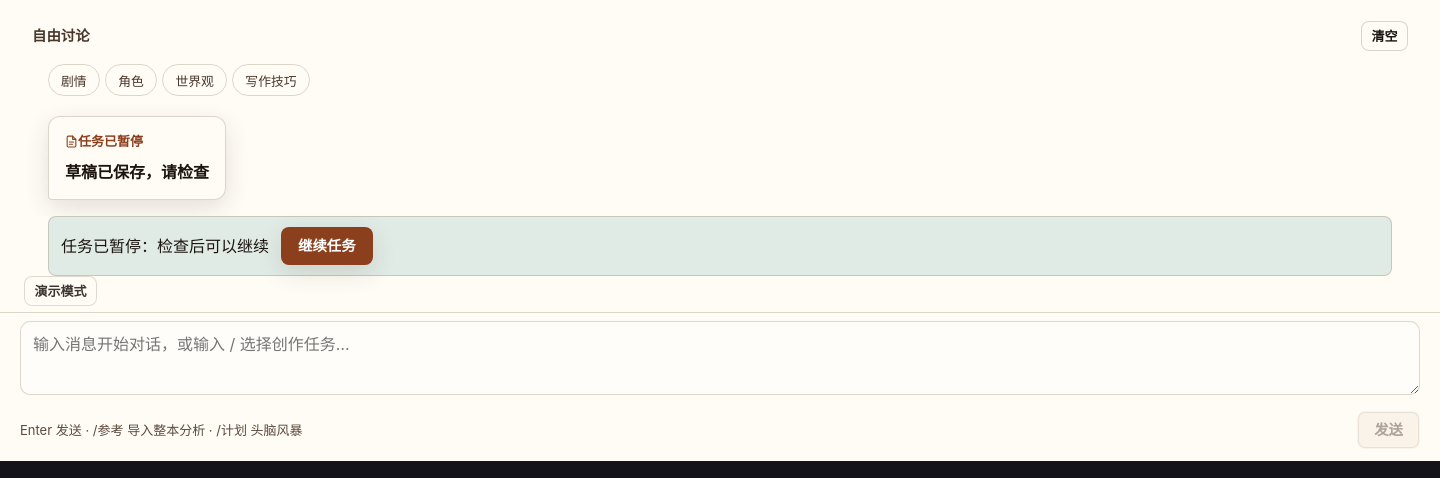
Test case: ChatWorkspace › shows a paused job after refresh and continues that job from the enabled button
Expected: the text "任务已暂停" is shown, [65, 133, 143, 149]
Expected: the text "任务完成" is not shown
Click the button "继续任务" at (327, 246), box [281, 227, 373, 265]
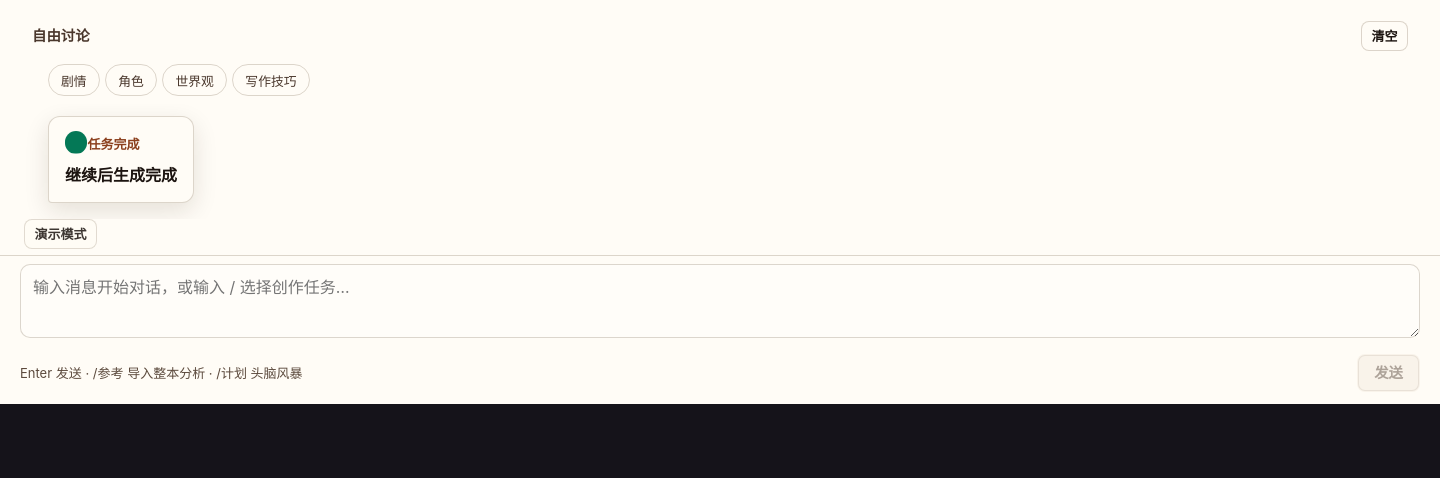
Expected: the text "继续后生成完成" is shown, [65, 165, 177, 185]
Expected: the button "继续任务" is gone
